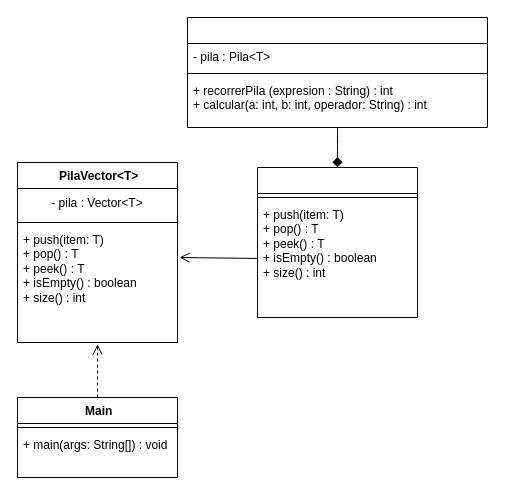
Some shapes in this 505 by 498 pixel diagram are drawn without their labels. Each missing label, with the box of its shape:
- Calculadora: (186, 16, 488, 128)
Pila<T>: (256, 166, 418, 318)
